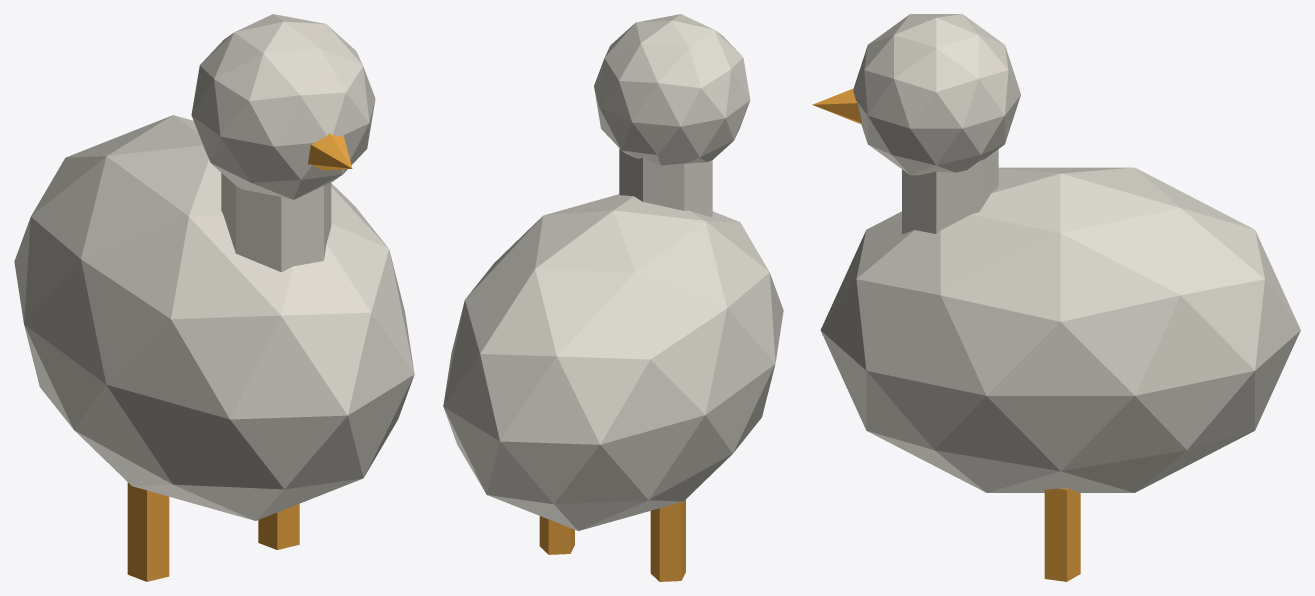
File: goose_old.glb
The picture shows the model from 3 angles, left to right: view 1: azimuth 30°, elevation 25°; view 2: azimuth 150°, elevation 25°; view 3: azimuth 270°, elevation 25°; orthographic projection. The views are drawn at different scales.
Visible parts, largest first — view 1: Cone; view 2: Cone; view 3: Cone.
Boxes of the visible parts, x1,y1,x2,y2 form: Cone: [14, 14, 414, 581]; Cone: [443, 14, 783, 581]; Cone: [812, 14, 1300, 581].
Bounding box in the file's own units: 0.3408 × 0.6386 × 0.5363.
